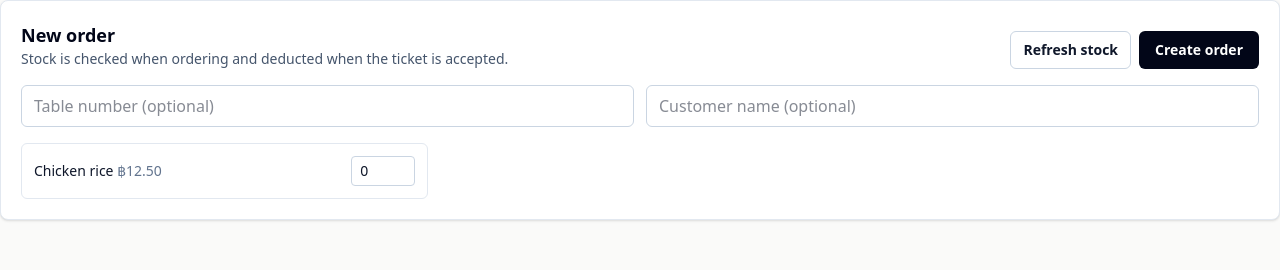
Test: OrderEntry › checks the current stock snapshot before sending an order
Replace the text in the number field named "Quantity for Chicken rice" with "4" at (383, 171), box [351,156,415,186]
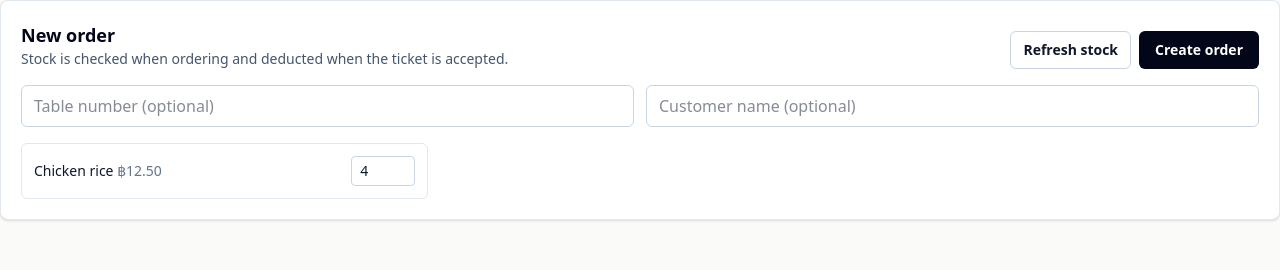
Submit the form named "Create order"
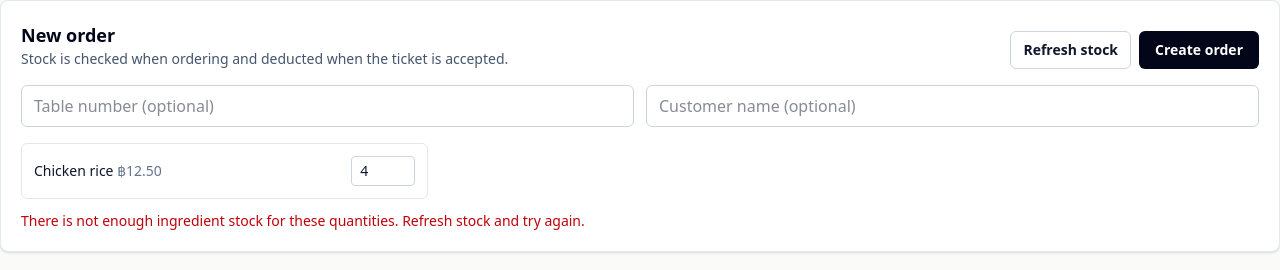
Check: the message shows "There is not enough ingredient stock", box [21,211,585,230]
